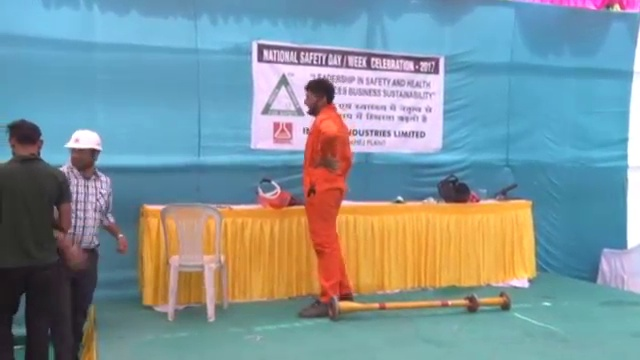helmet: (61, 127, 105, 154)
helmet_off: (6, 119, 45, 161), (303, 78, 336, 118)
helmet_on: (60, 125, 105, 170)
person: (50, 122, 129, 358), (1, 119, 76, 360), (300, 78, 357, 321)
